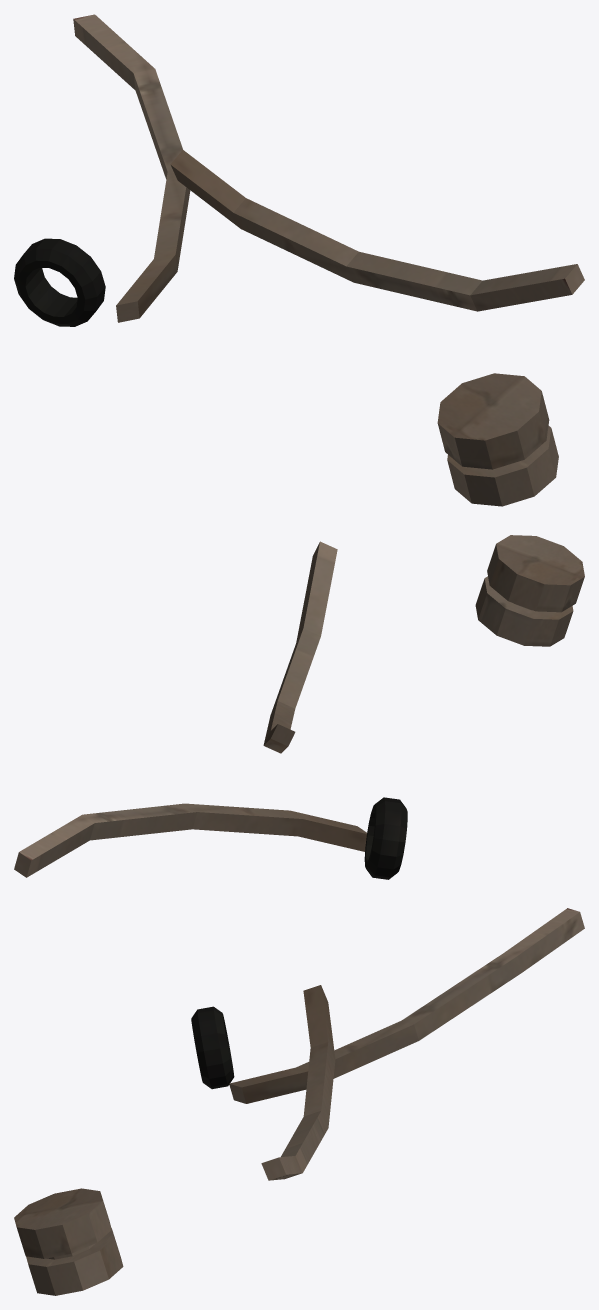
The model's file is Rubble.glb.
3 renders of one model, top to bottom at view 1: azimuth 30°, elevation 25°; view 2: azimuth 150°, elevation 25°; view 3: azimuth 330°, elevation 25°, orthographic. The views are drawn at different scales.
Visible parts, largest first — view 1: Cube.023, Cylinder.029, Cube.025, Cylinder.027; view 2: Cube.025, Cylinder.029, Cube.023, Cylinder.027; view 3: Cube.025, Cylinder.029, Cube.023, Cylinder.027.
Part boxes in pixels (x1,y1,x2,y2): Cube.023: (170, 150, 584, 311); Cylinder.029: (437, 373, 558, 506); Cube.025: (73, 14, 190, 322); Cylinder.027: (14, 238, 105, 326); Cube.025: (14, 803, 366, 877); Cylinder.029: (475, 535, 584, 646); Cube.023: (263, 541, 337, 753); Cylinder.027: (364, 797, 407, 879); Cube.025: (229, 908, 584, 1103); Cylinder.029: (14, 1188, 123, 1295); Cube.023: (261, 985, 335, 1180); Cylinder.027: (191, 1006, 234, 1089).
Bounding box in the file's own units: 8.31 × 3.57 × 22.7.
Materials: 2 (2 with a texture image).
